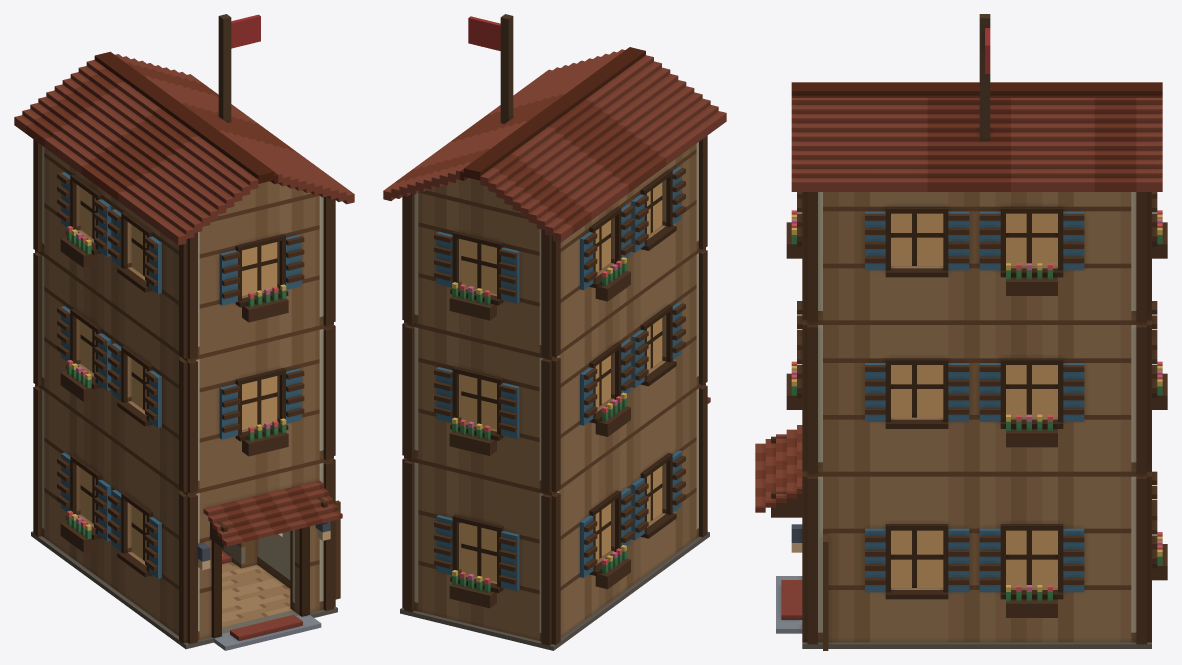
3 renders of one model, left to right at view 1: azimuth 30°, elevation 25°; view 2: azimuth 150°, elevation 25°; view 3: azimuth 270°, elevation 25°, orthographic. The views are drawn at different scales.
Parts seen in each view (by area): view 1: CutUpper, Base, CutNX, CutPZ, CutNZ; view 2: CutUpper, CutNZ, CutNX, Base, CutPZ; view 3: CutUpper, CutPX, Base, CutPZ, CutNZ.
Part boxes in pixels (left/top/right/bottom): CutUpper: left=14, top=14, right=354, bottom=495; Base: left=31, top=496, right=340, bottom=650; CutNX: left=44, top=391, right=180, bottom=598; CutPZ: left=179, top=458, right=342, bottom=606; CutNZ: left=33, top=384, right=44, bottom=499; CutUpper: left=383, top=14, right=726, bottom=495; CutNZ: left=402, top=458, right=560, bottom=607; CutNX: left=559, top=390, right=696, bottom=598; Base: left=400, top=496, right=709, bottom=650; CutPZ: left=696, top=383, right=710, bottom=499; CutUpper: left=786, top=14, right=1167, bottom=476; CutPX: left=823, top=476, right=1131, bottom=608; Base: left=776, top=571, right=1167, bottom=650; CutPZ: left=755, top=425, right=828, bottom=608; CutNZ: left=1131, top=471, right=1167, bottom=601.
Size of the model in its own units: 4.4 by 13 by 7.9.
